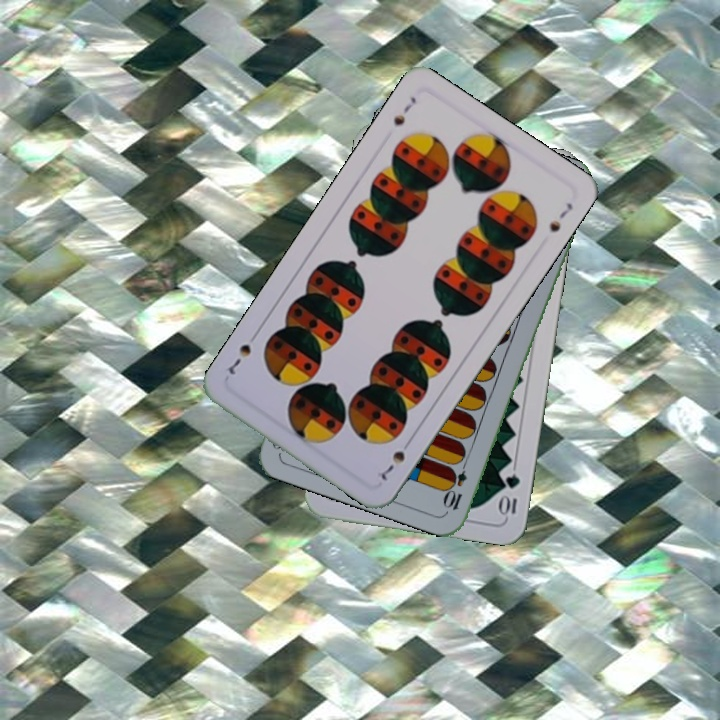E10: (442, 454, 471, 513)
G10: (496, 469, 523, 519)
S7: (374, 434, 415, 483), (389, 92, 419, 129)
